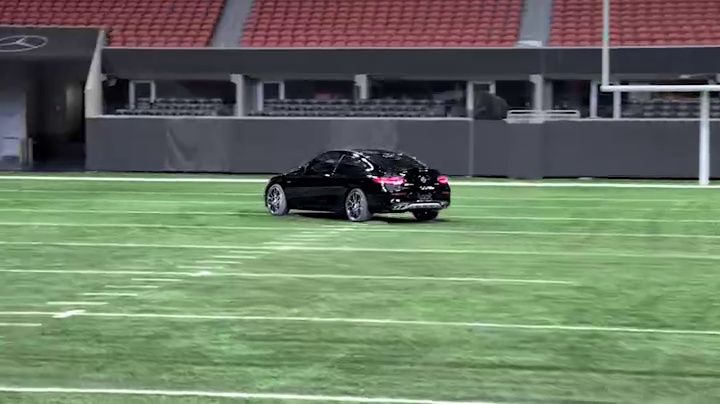amg: (262, 147, 455, 225)
